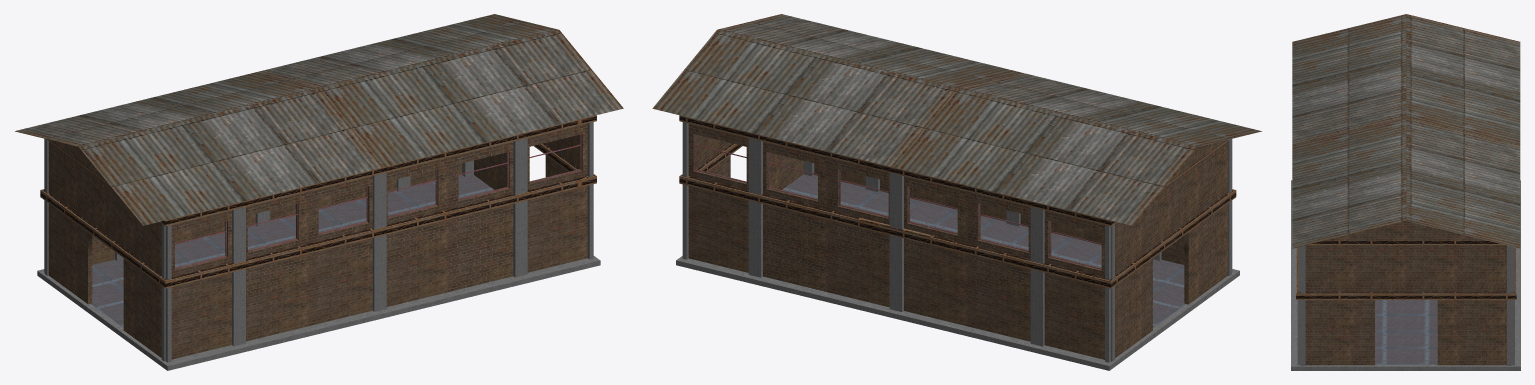
Rendered from Building_WarehouseA_2048_lod1.glb.
3 renders of one model, left to right at view 1: azimuth 30°, elevation 25°; view 2: azimuth 150°, elevation 25°; view 3: azimuth 270°, elevation 25°, orthographic. The views are drawn at different scales.
Visible parts, largest first — view 1: xiutz_warehouse_a_lod1; view 2: xiutz_warehouse_a_lod1; view 3: xiutz_warehouse_a_lod1.
Part boxes in pixels (<box>): xiutz_warehouse_a_lod1: <box>15,14,623,370</box>; xiutz_warehouse_a_lod1: <box>652,14,1261,370</box>; xiutz_warehouse_a_lod1: <box>1291,14,1520,370</box>.
Size of the model in its own units: 33.84 by 12.23 by 15.89.
1 material, 1 textured.
